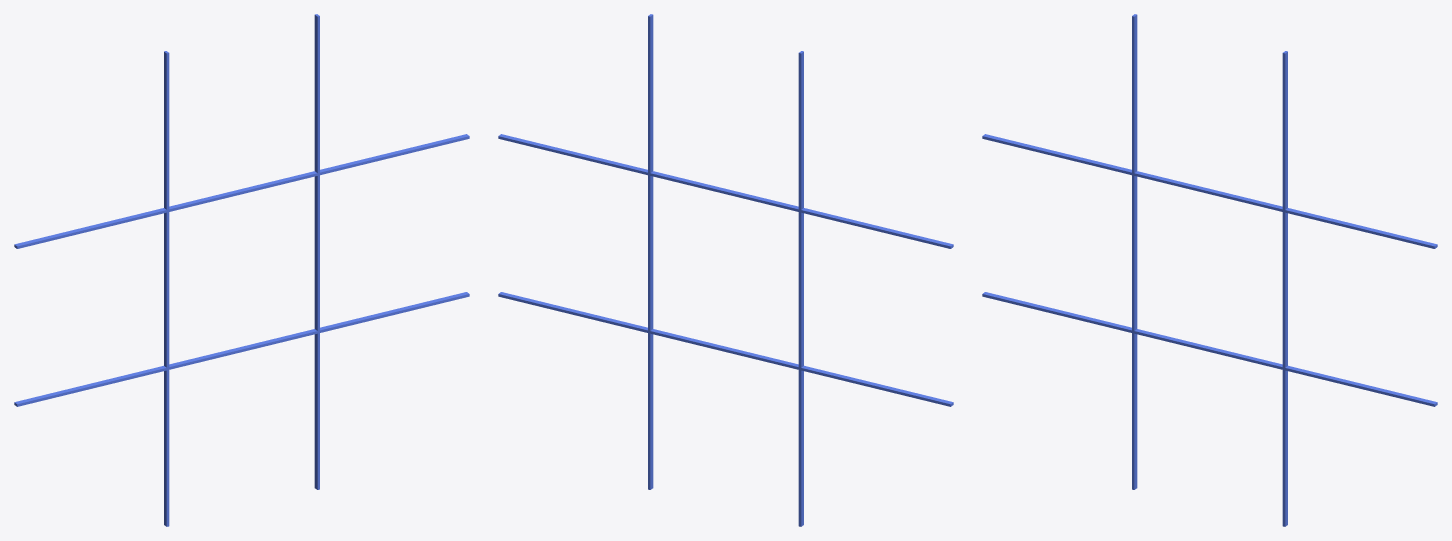
3 renders of one model, left to right at view 1: azimuth 30°, elevation 25°; view 2: azimuth 150°, elevation 25°; view 3: azimuth 330°, elevation 25°, orthographic.
Parts seen in each view (by area): view 1: Layer 03; view 2: Layer 03; view 3: Layer 03.
Part boxes in pixels (x1,y1,x2,y2): Layer 03: [14, 14, 469, 526]; Layer 03: [498, 14, 953, 526]; Layer 03: [982, 14, 1437, 526].
Bounding box in the file's own units: 180 × 180 × 2.
